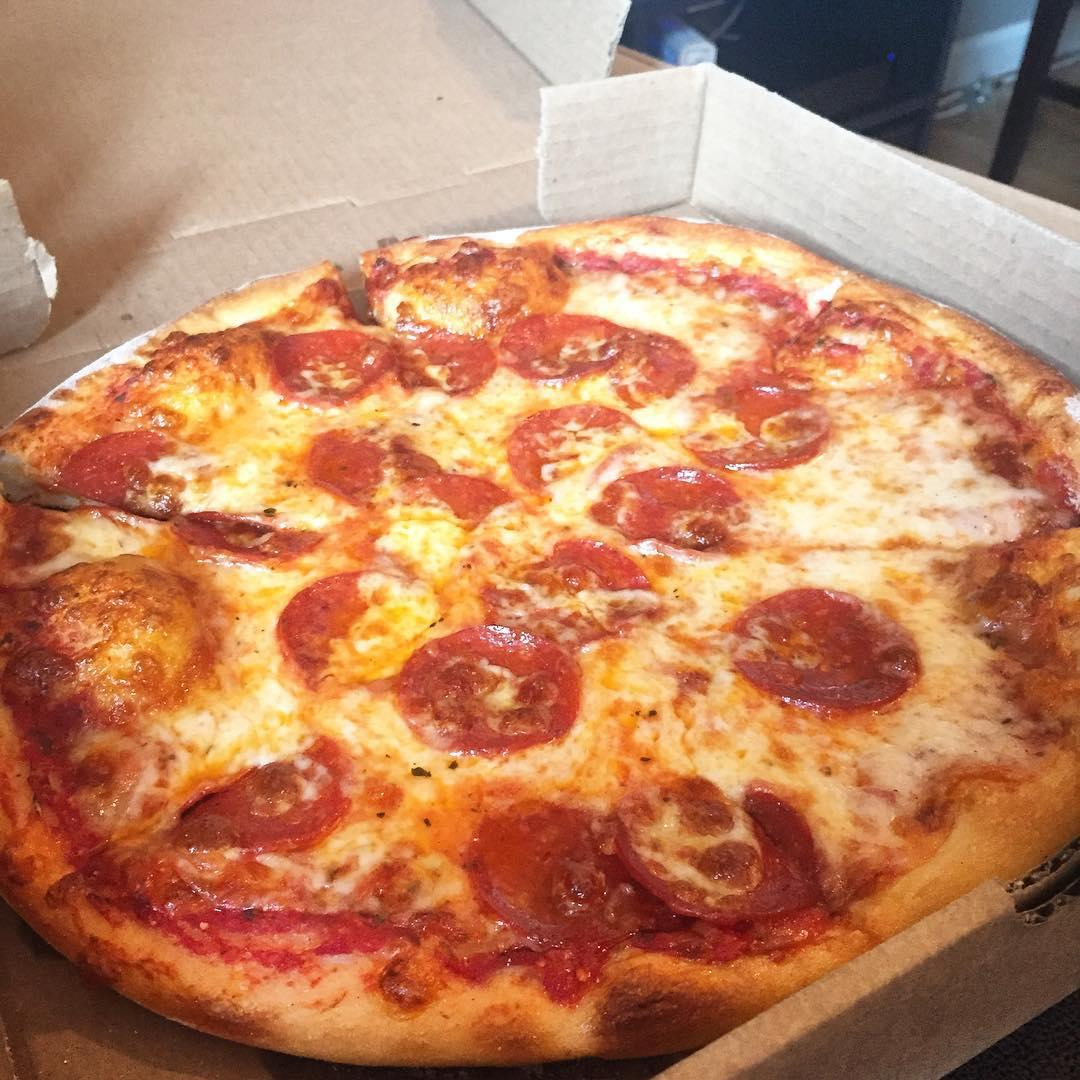Pepperoni: (460, 790, 699, 945), (606, 773, 822, 921), (724, 582, 925, 712), (149, 730, 350, 859), (391, 623, 585, 755), (273, 563, 446, 691), (483, 530, 660, 648), (682, 377, 836, 473), (600, 460, 748, 559), (57, 418, 191, 522), (501, 397, 644, 492), (258, 327, 399, 410), (169, 498, 325, 562), (393, 448, 514, 530), (299, 423, 398, 513), (388, 309, 492, 394), (496, 309, 624, 378), (606, 325, 698, 412)
Pizza: (0, 213, 1080, 1073)
